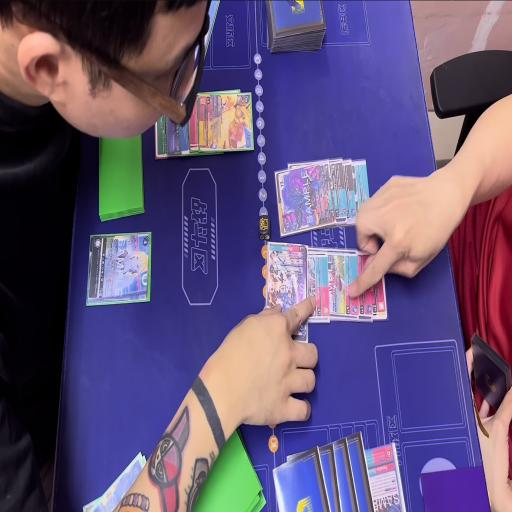card: (86, 228, 152, 306), (276, 156, 334, 240), (264, 244, 307, 346), (82, 450, 144, 512), (197, 94, 254, 152), (362, 447, 406, 512), (328, 250, 358, 318), (354, 241, 375, 325), (306, 250, 330, 322), (354, 159, 375, 226), (330, 154, 349, 220), (342, 158, 358, 224), (371, 264, 388, 321), (154, 100, 167, 163), (167, 101, 180, 160), (190, 92, 198, 160), (179, 114, 189, 162)
